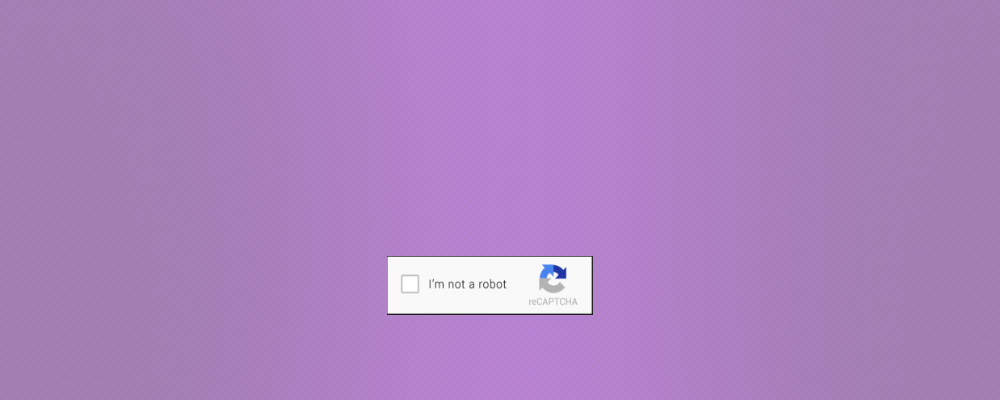captcha: (389, 256, 592, 313)
